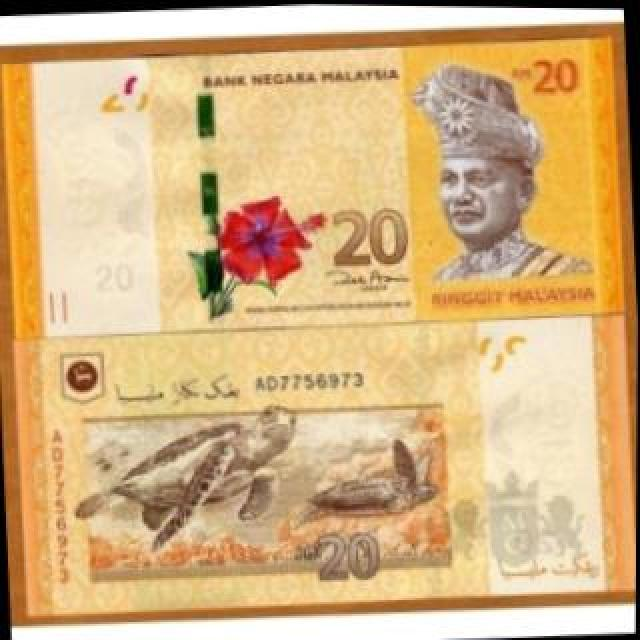20 Ringgit: (2, 312, 638, 627), (0, 30, 632, 345)
